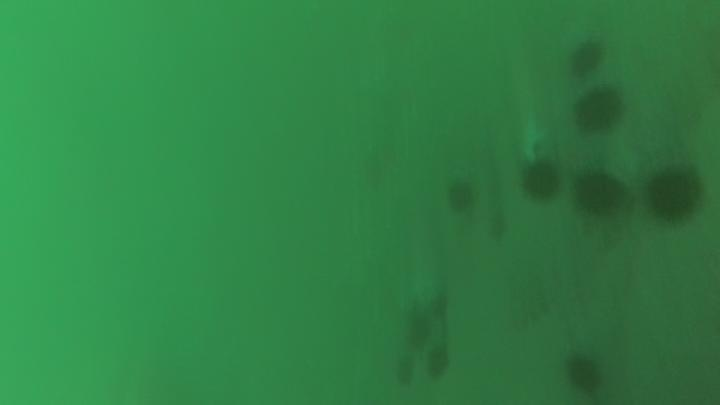echinus: (642, 162, 707, 226), (571, 84, 626, 135), (572, 168, 626, 218), (518, 157, 563, 204), (562, 351, 606, 397), (566, 36, 607, 79), (443, 176, 479, 217), (402, 310, 436, 351), (422, 343, 453, 382), (392, 354, 418, 389)
starfish: (514, 111, 551, 167)
